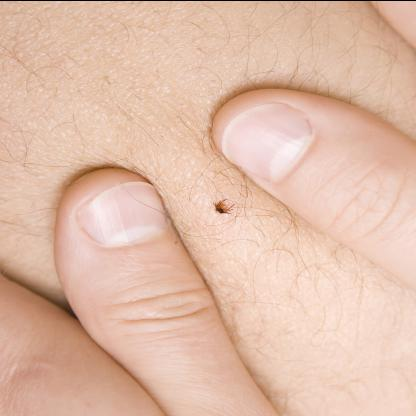Fire ant: (235, 219, 286, 318), (191, 283, 233, 370), (207, 21, 242, 118), (144, 150, 180, 240), (188, 236, 224, 269)
